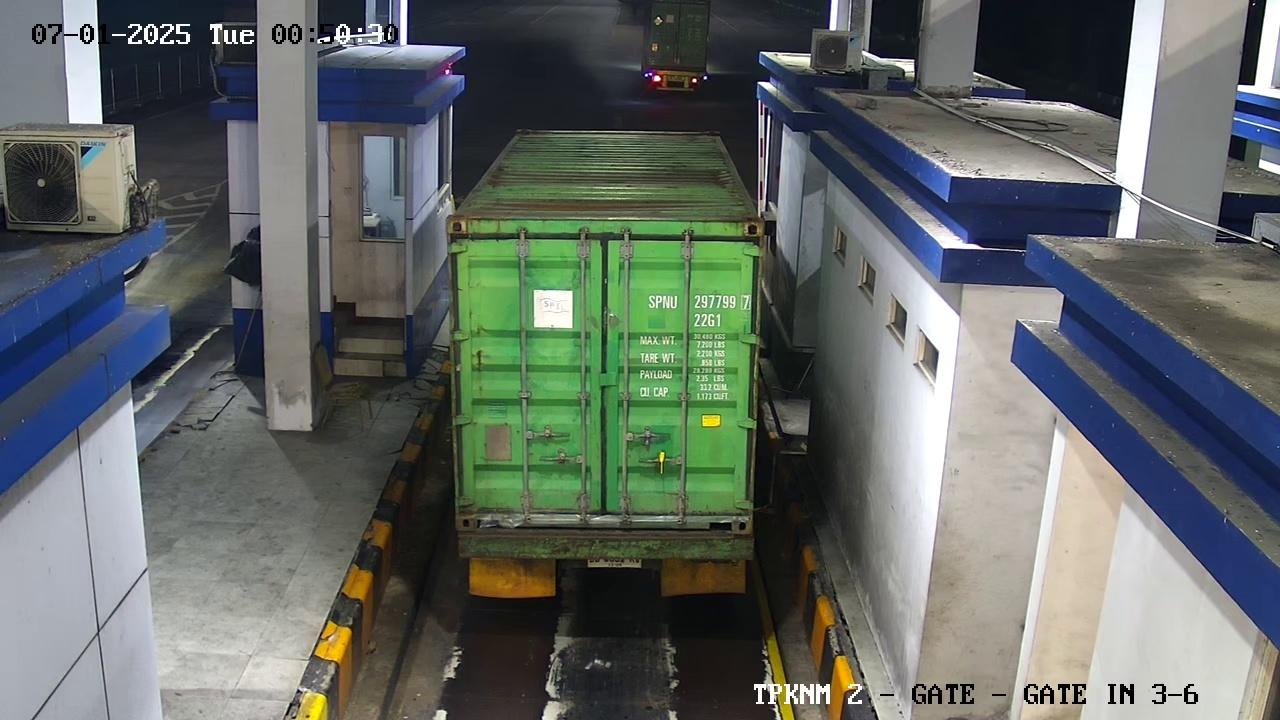Container_ID: (621, 285, 764, 336)
